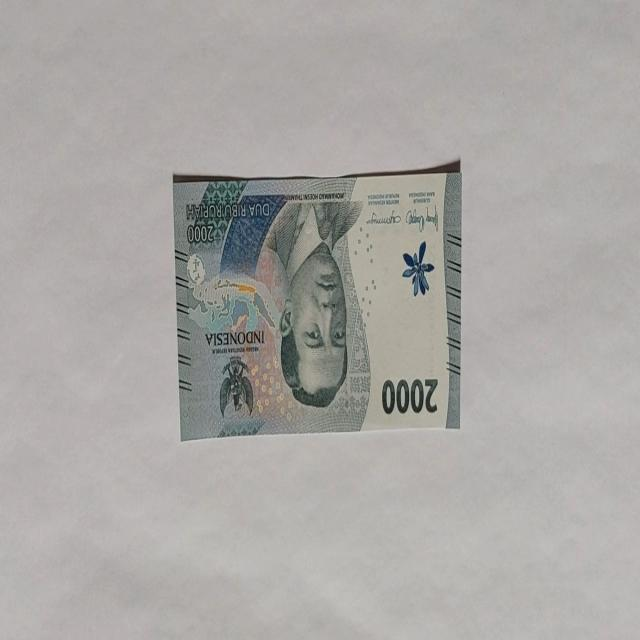dua ribu rupiah: (172, 165, 462, 438), (258, 199, 364, 413)
